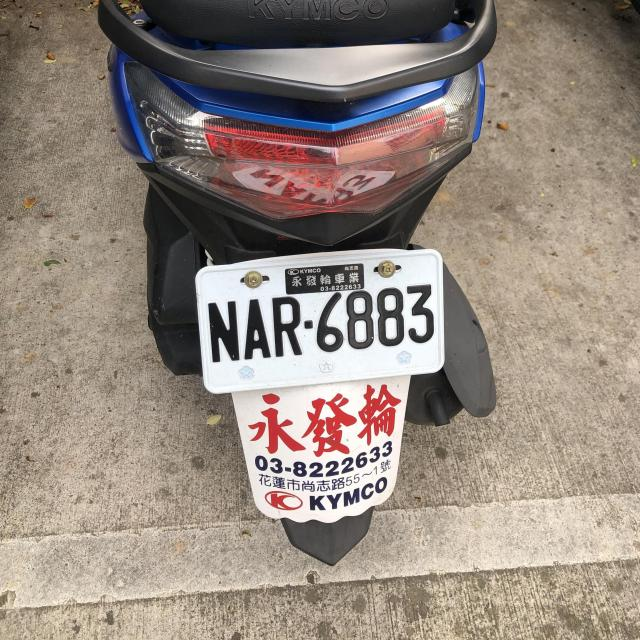W: (194, 250, 447, 392)
